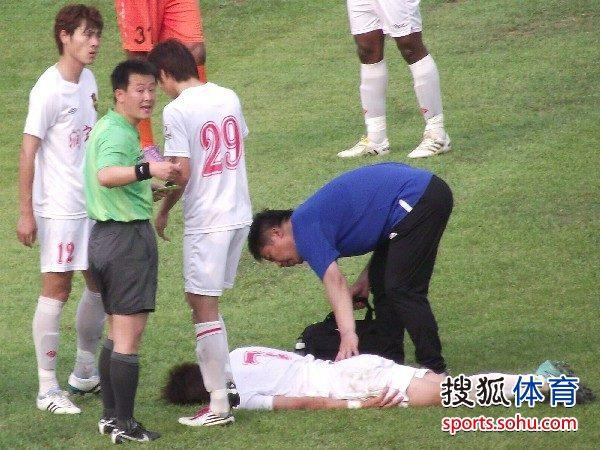bending: (240, 158, 475, 364)
down: (161, 329, 599, 419)
up: (152, 44, 261, 433), (10, 6, 103, 412), (91, 54, 173, 447)
